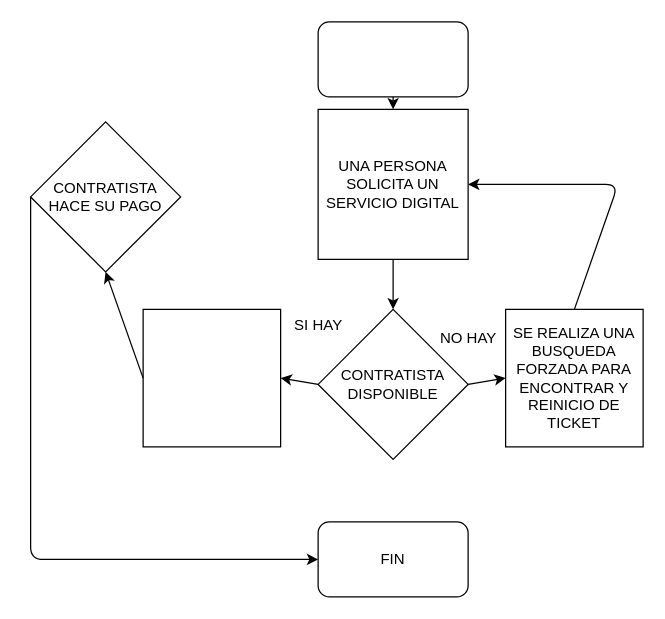
Some shapes in this 665 by 619 pixel diagram are drawn without their labels. The shapes that lost their labels are listed below. From the top down, each one's centre as x and y in pixels, then its label:
(392,59): INICIO
(211,377): SOLICITANTE HACE SU PAGO RESPECTIVO
